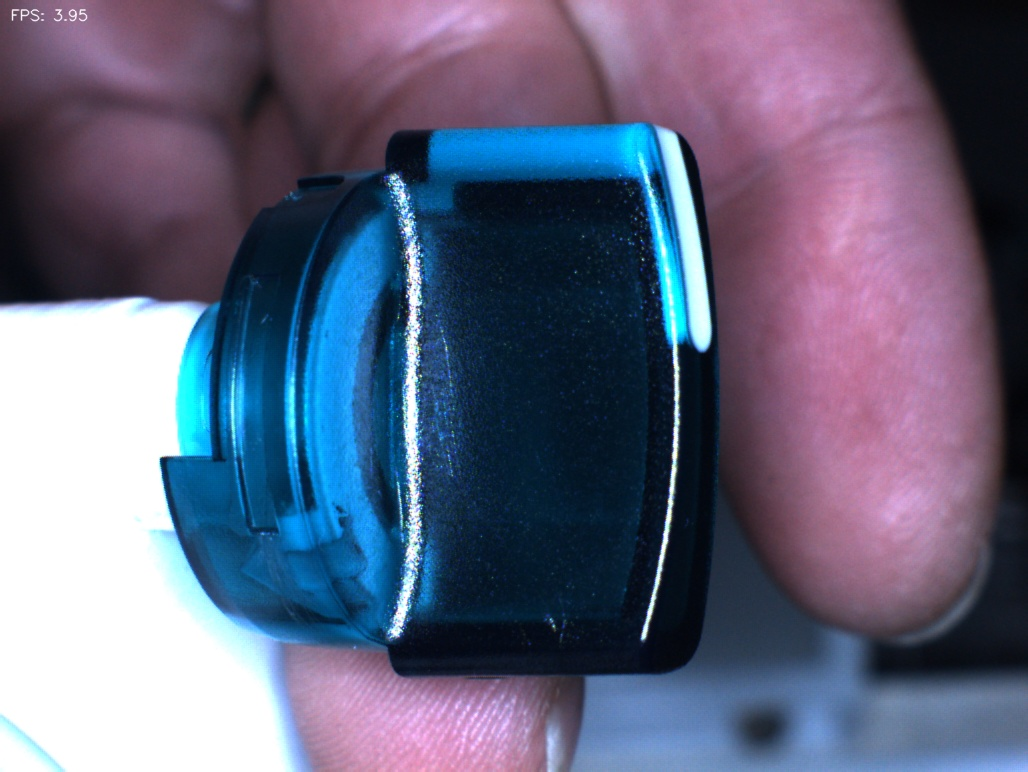Givrage: (395, 300, 496, 493)
